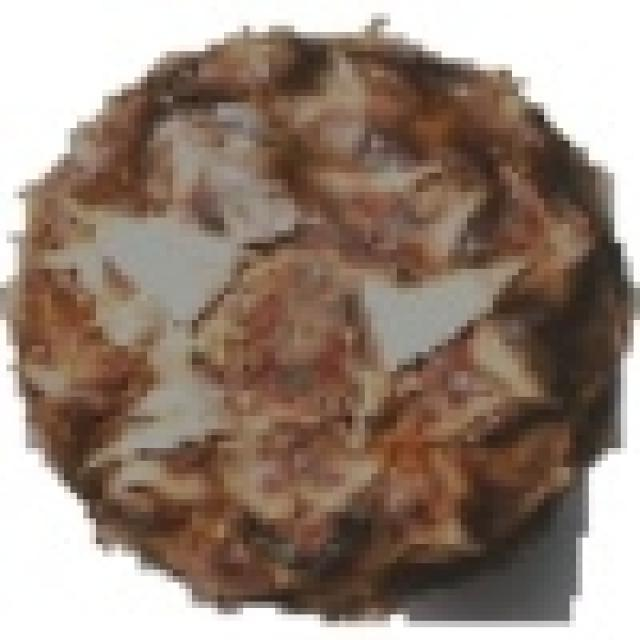pineapple: (6, 13, 614, 608)
